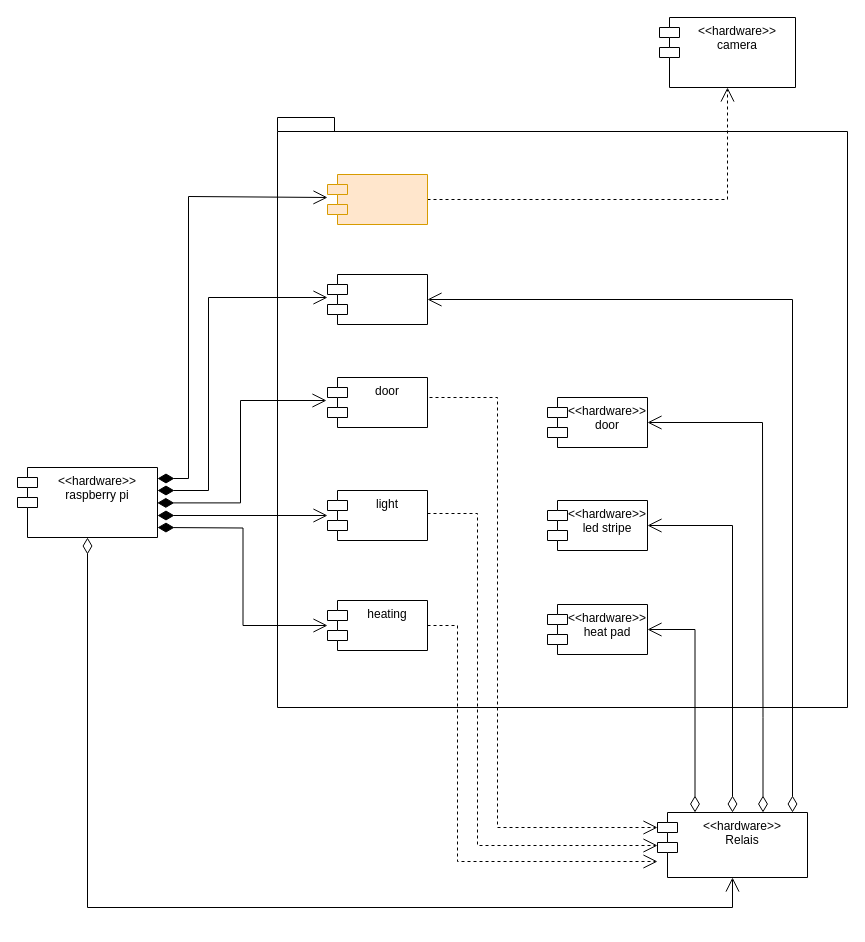
This 865x942 diagram has some shape labels left out. The box of each missing label's shape, as (x1, y1, x2, y2) in pixels:
cinema: (326, 174, 428, 224)
e-chicken: (276, 116, 848, 708)
ui: (326, 274, 428, 324)
